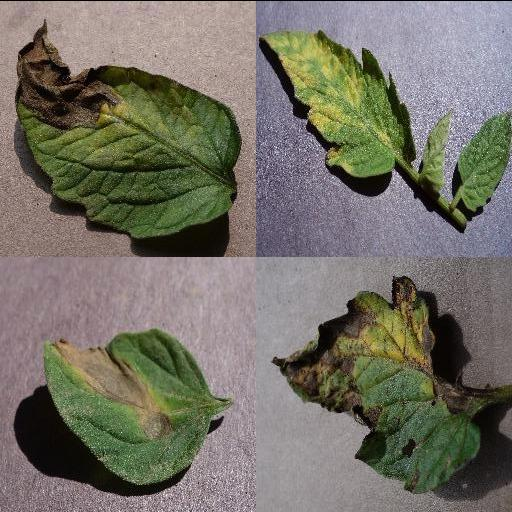Early Blight: (268, 274, 482, 489), (43, 326, 215, 482)
Healthy: (454, 110, 512, 212)
Late Blight: (14, 18, 242, 236)
Leaf Mold: (258, 28, 418, 176)
